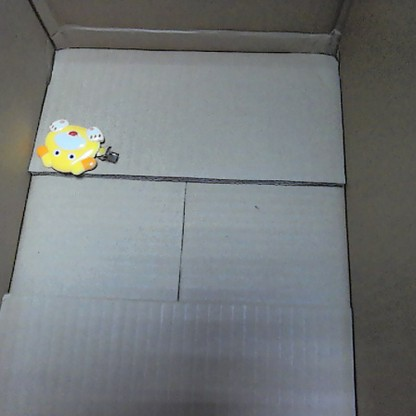dogclip: (34, 114, 121, 178)
